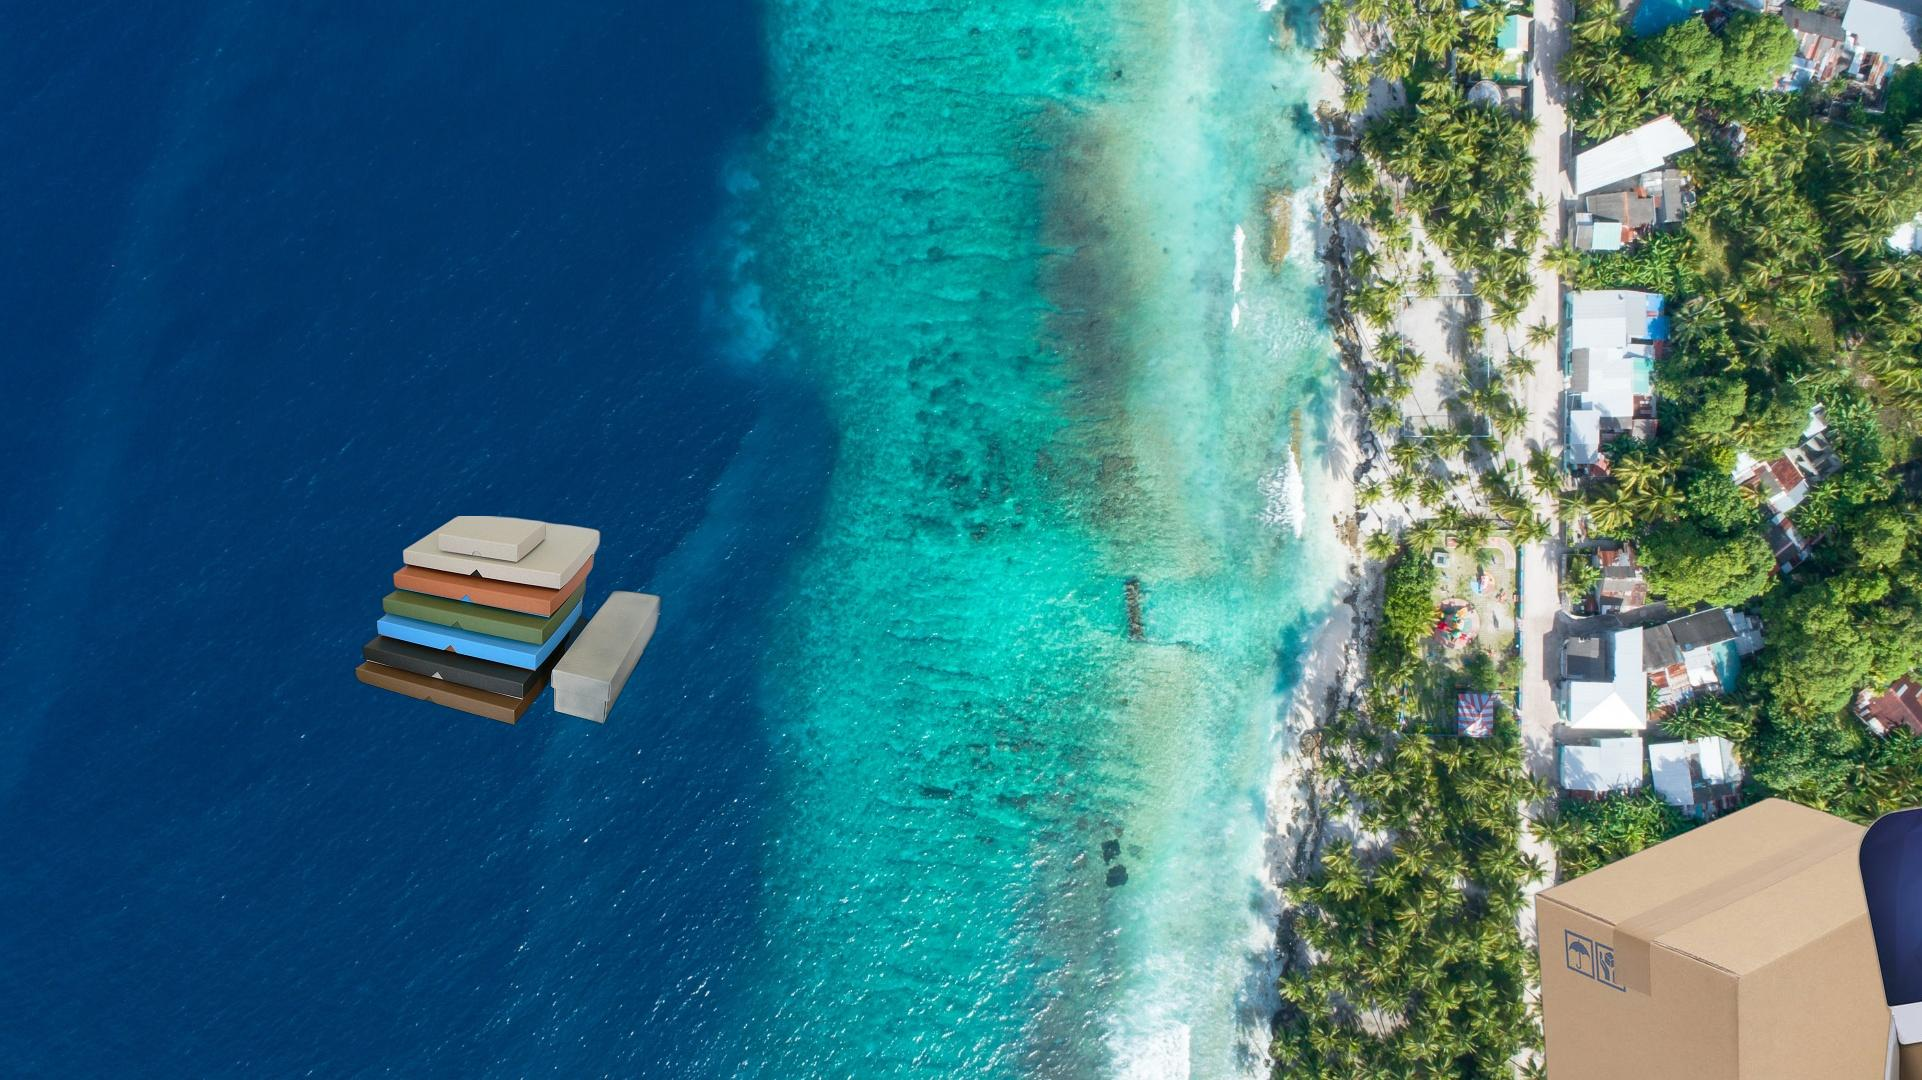trashbox-cardboard: (1531, 793, 1922, 1080), (352, 516, 667, 727), (1852, 757, 1922, 1080)
